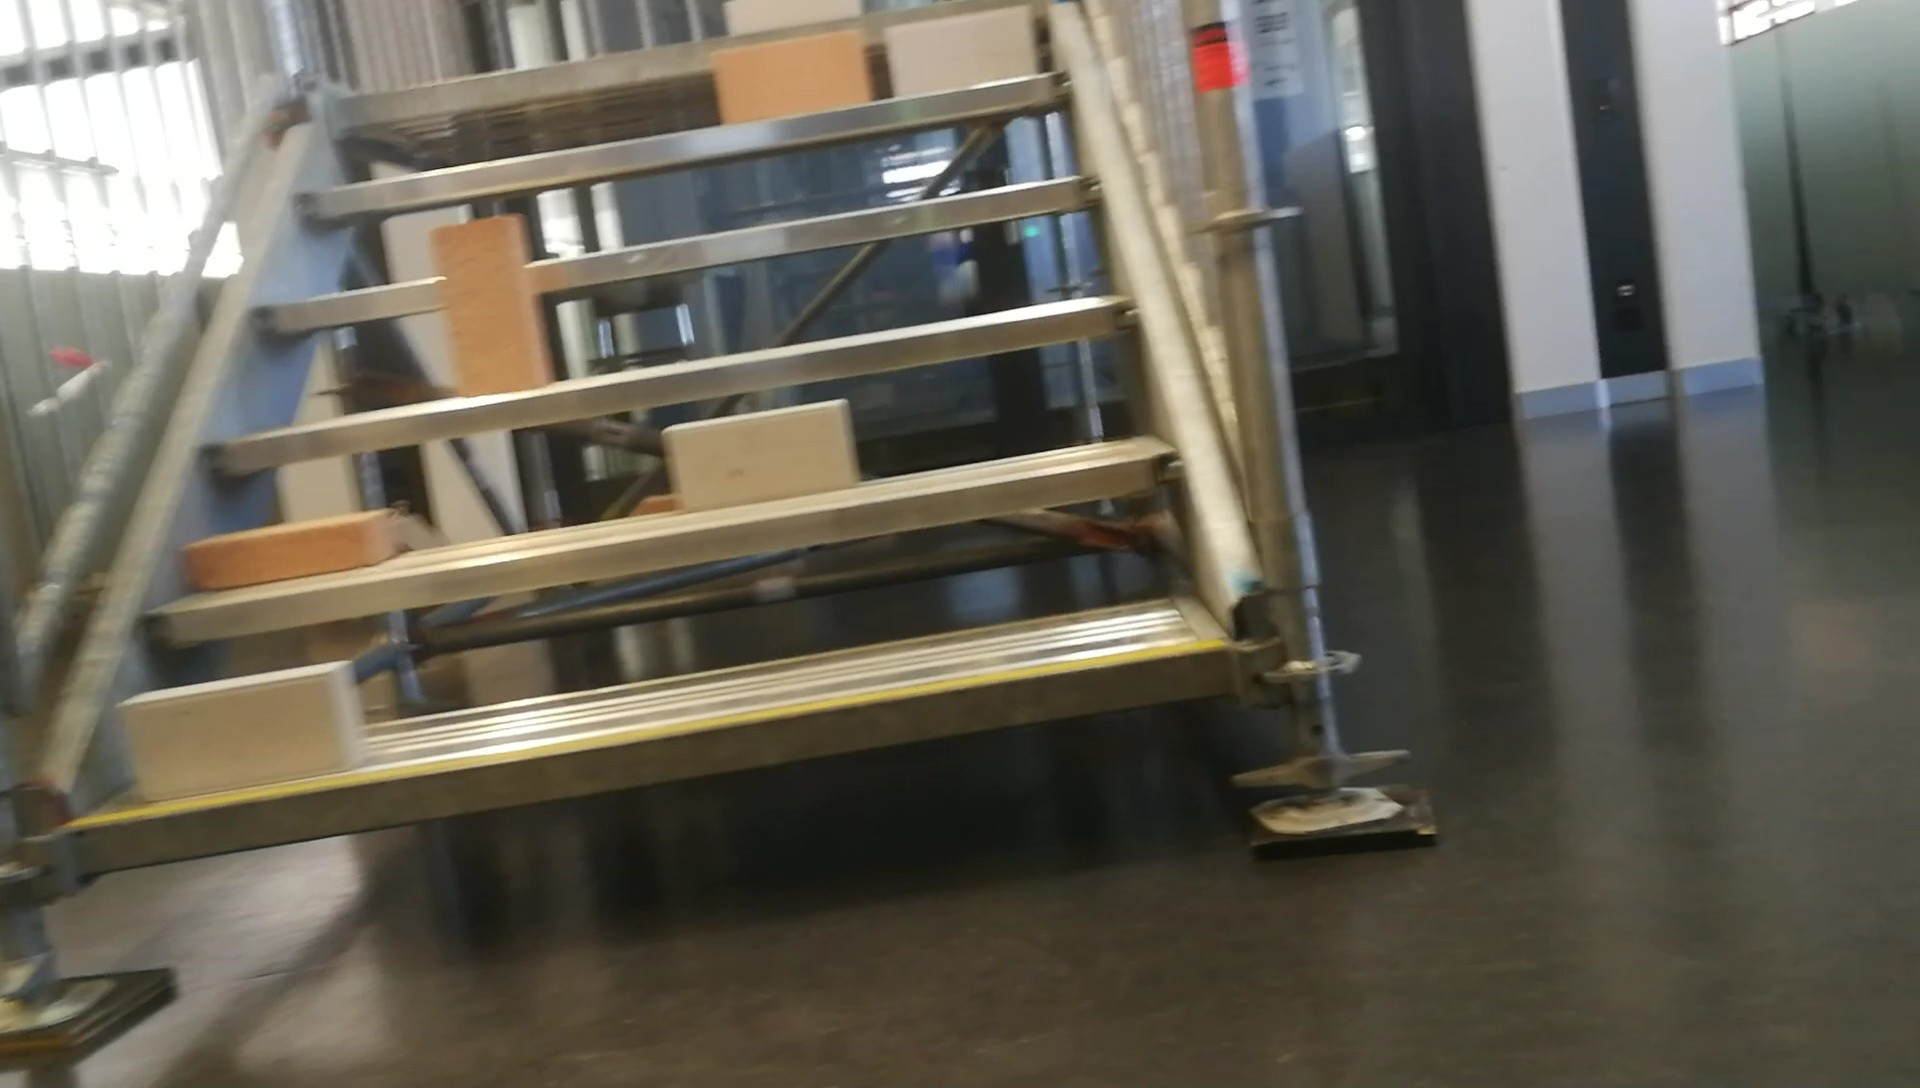brick: (117, 655, 360, 804), (433, 215, 545, 398), (667, 400, 856, 508), (181, 513, 397, 586), (887, 7, 1029, 106), (715, 33, 860, 128), (723, 3, 862, 28)
edge: (79, 648, 1228, 868), (137, 452, 1180, 644), (204, 301, 1135, 472), (257, 175, 1102, 334), (295, 76, 1073, 212)
stairs: (7, 5, 1433, 1052)
steps: (65, 0, 1250, 892)
